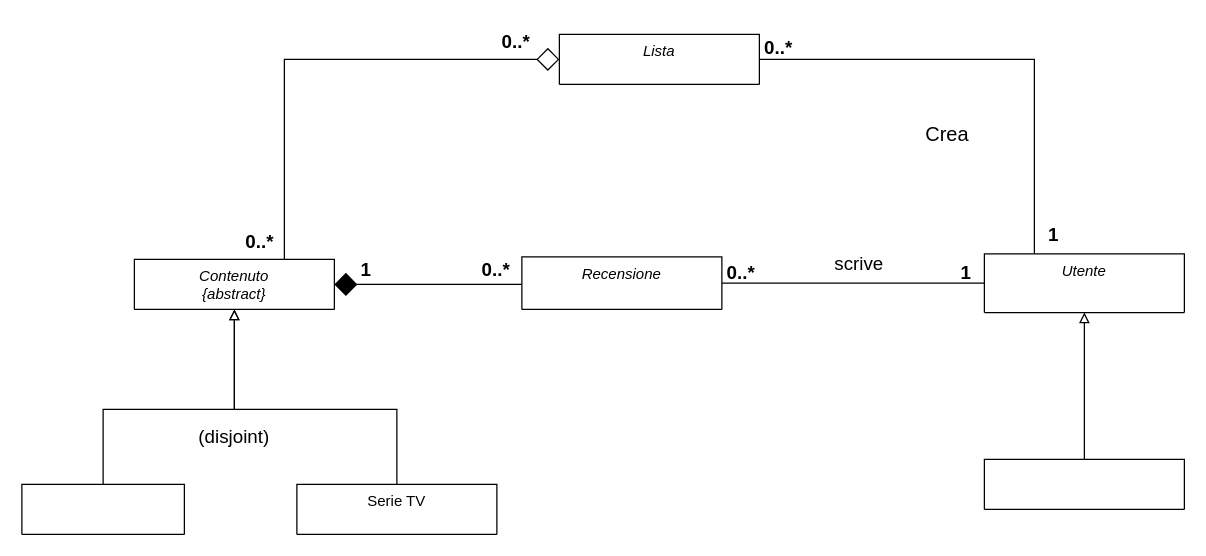
The diagram is 1206 pixels wide and 556 high, and some of its shapes have lost their labels. Here are the shapes that lost their labels. From the top down, the centre of each, then its label:
the point at 1083,483: Amministratore
the point at 102,508: Film
